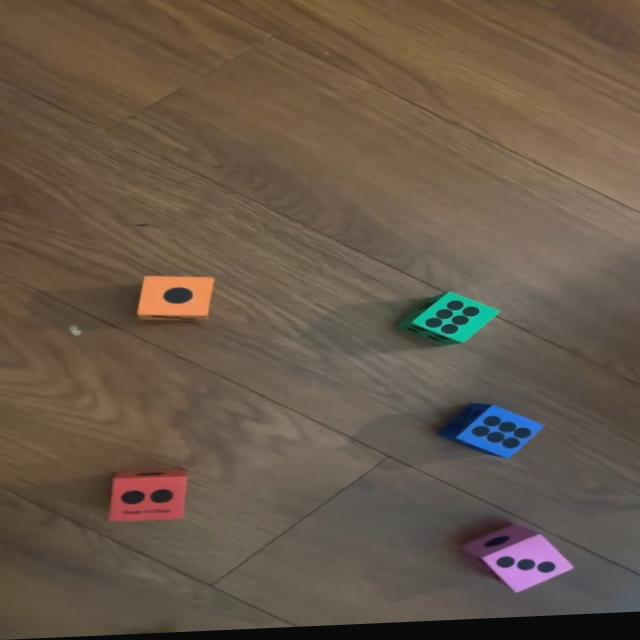cube: (389, 293, 500, 355), (439, 403, 545, 467), (110, 468, 188, 526)
